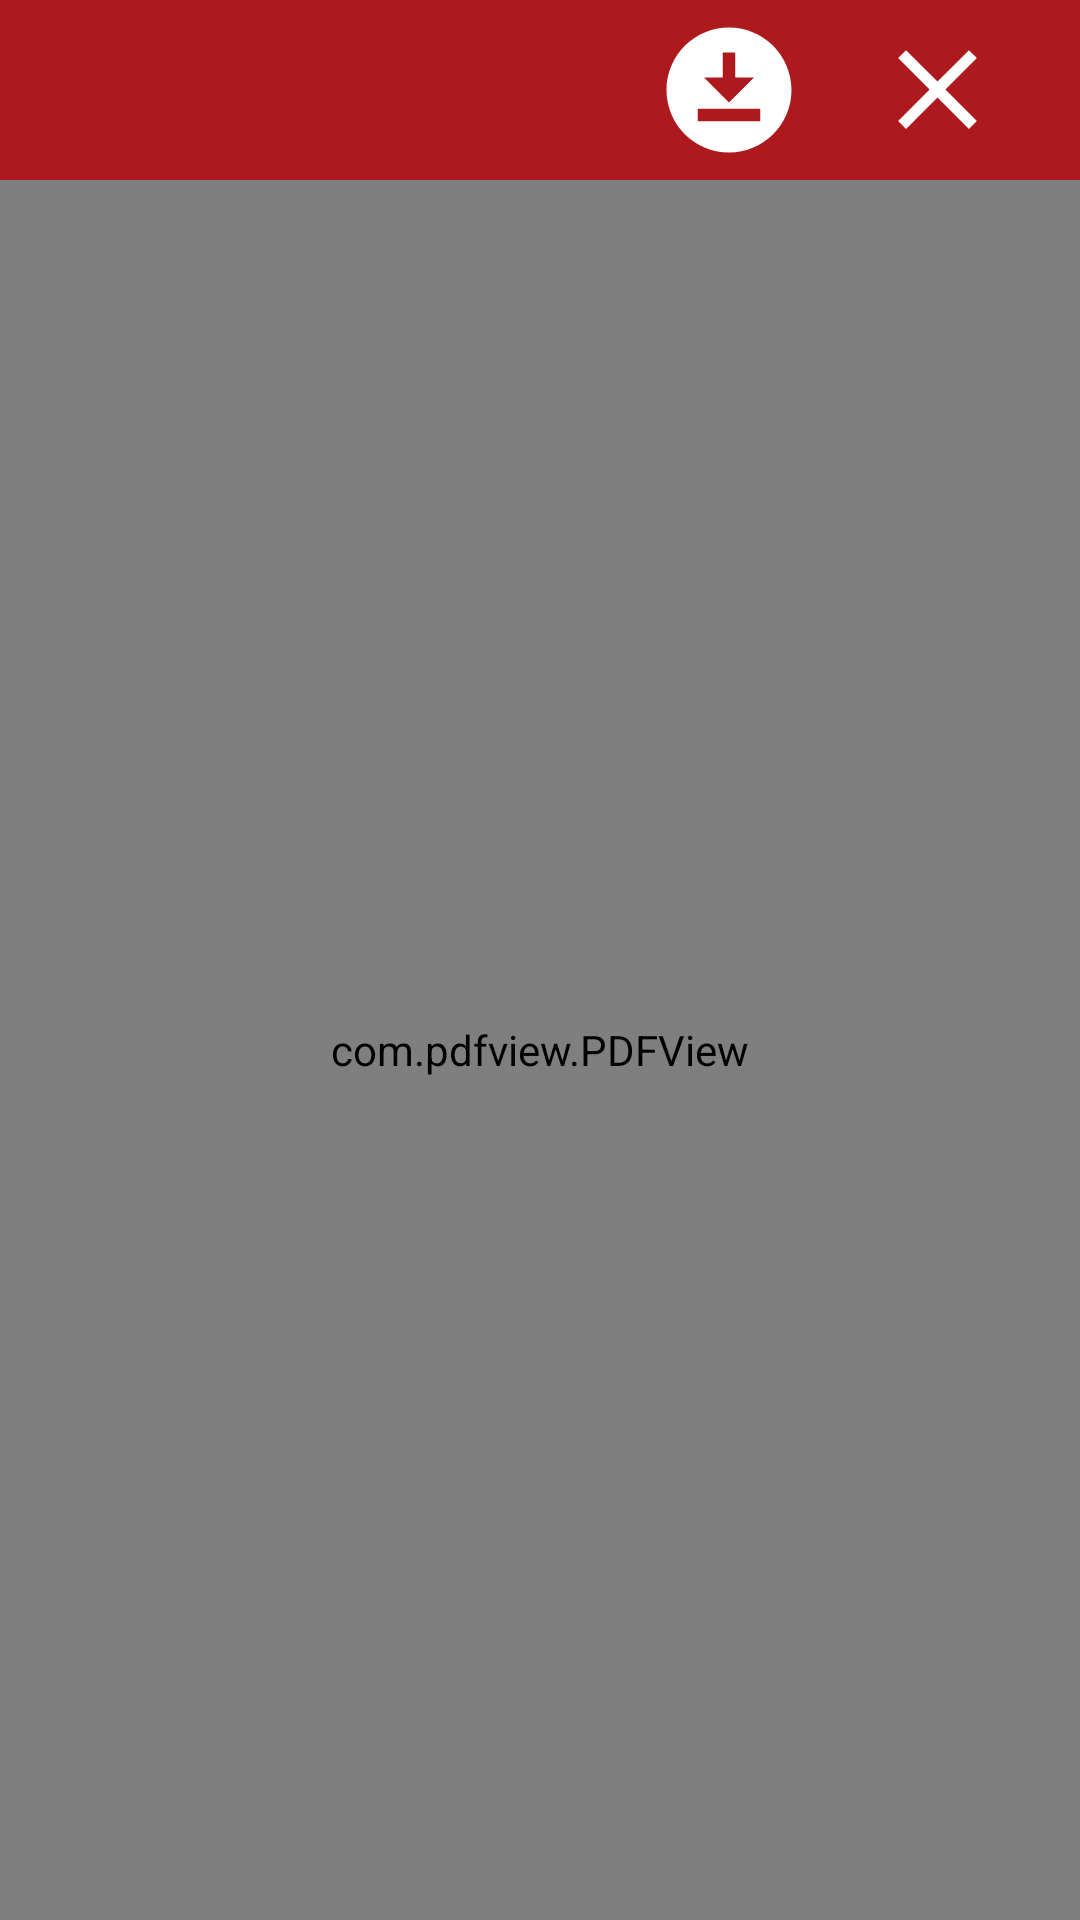

Icon click points for this 1080*1920 phone screenshot, format (x,y):
close: (937,89)
download: (729,90)
